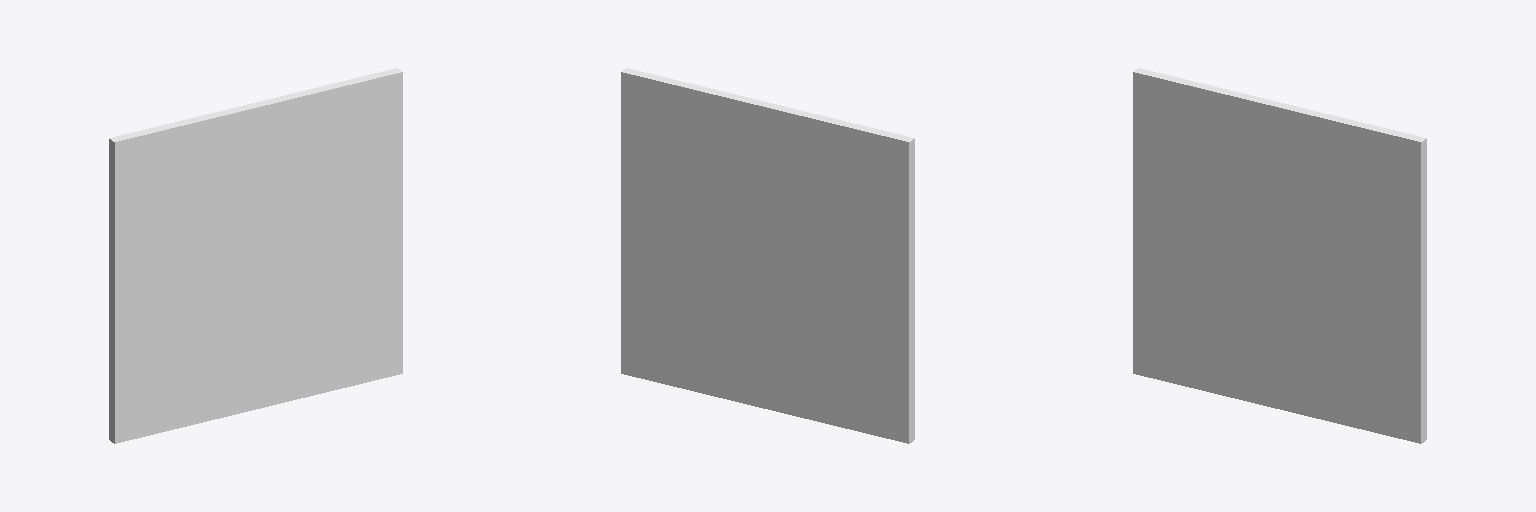
The model's file is speed_plus.obj.
3 views of the same model, side by side, from view 1: azimuth 30°, elevation 25°; view 2: azimuth 150°, elevation 25°; view 3: azimuth 330°, elevation 25° (orthographic).
Parts seen in each view (by area): view 1: speed_plus; view 2: speed_plus; view 3: speed_plus.
Boxes of the visible parts, box(x1,y1,x2,y2) form: speed_plus: box(109, 68, 402, 443); speed_plus: box(621, 68, 914, 443); speed_plus: box(1133, 68, 1426, 443).
Bounding box in the file's own units: 30 × 30 × 1.